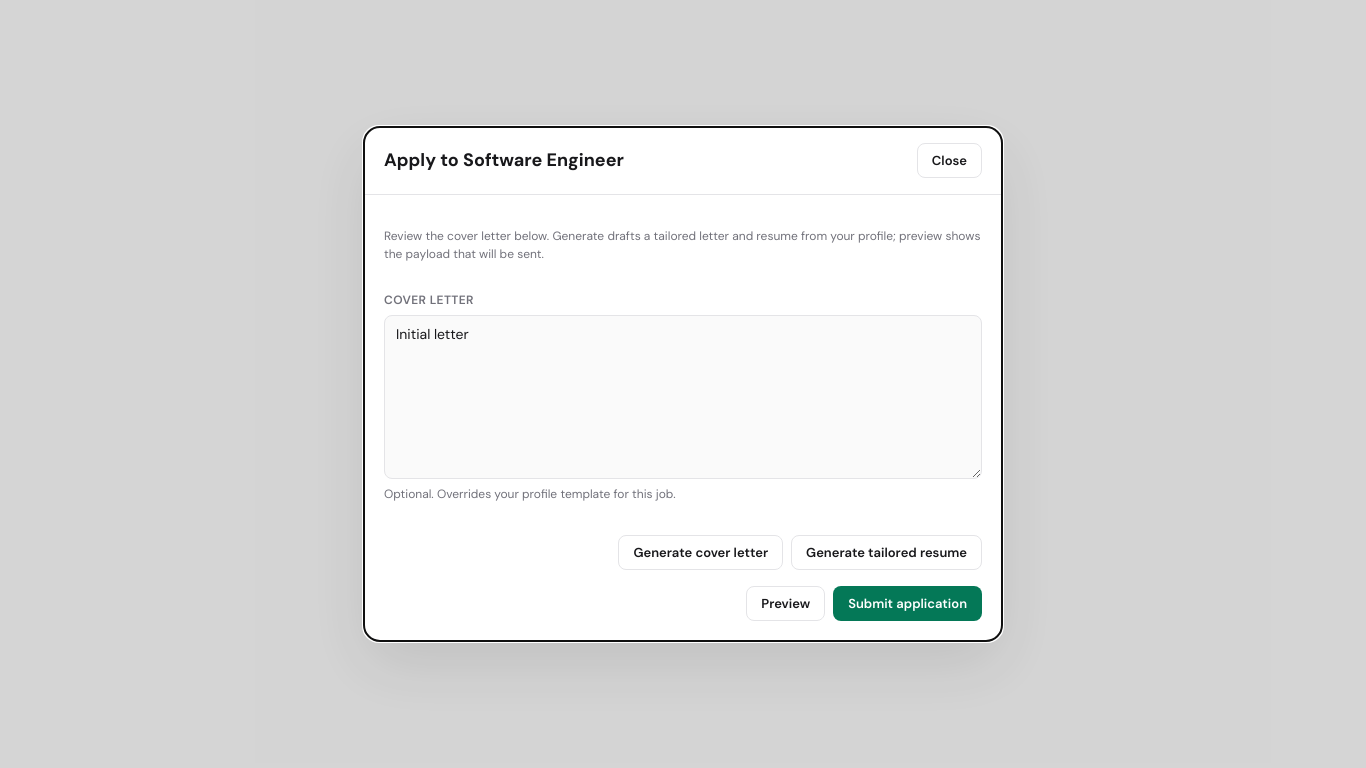
Test: ApplyJobDialog › announces apply errors via an assertive live region
Click the button "Submit application": point(908, 604) [833,586,982,621]
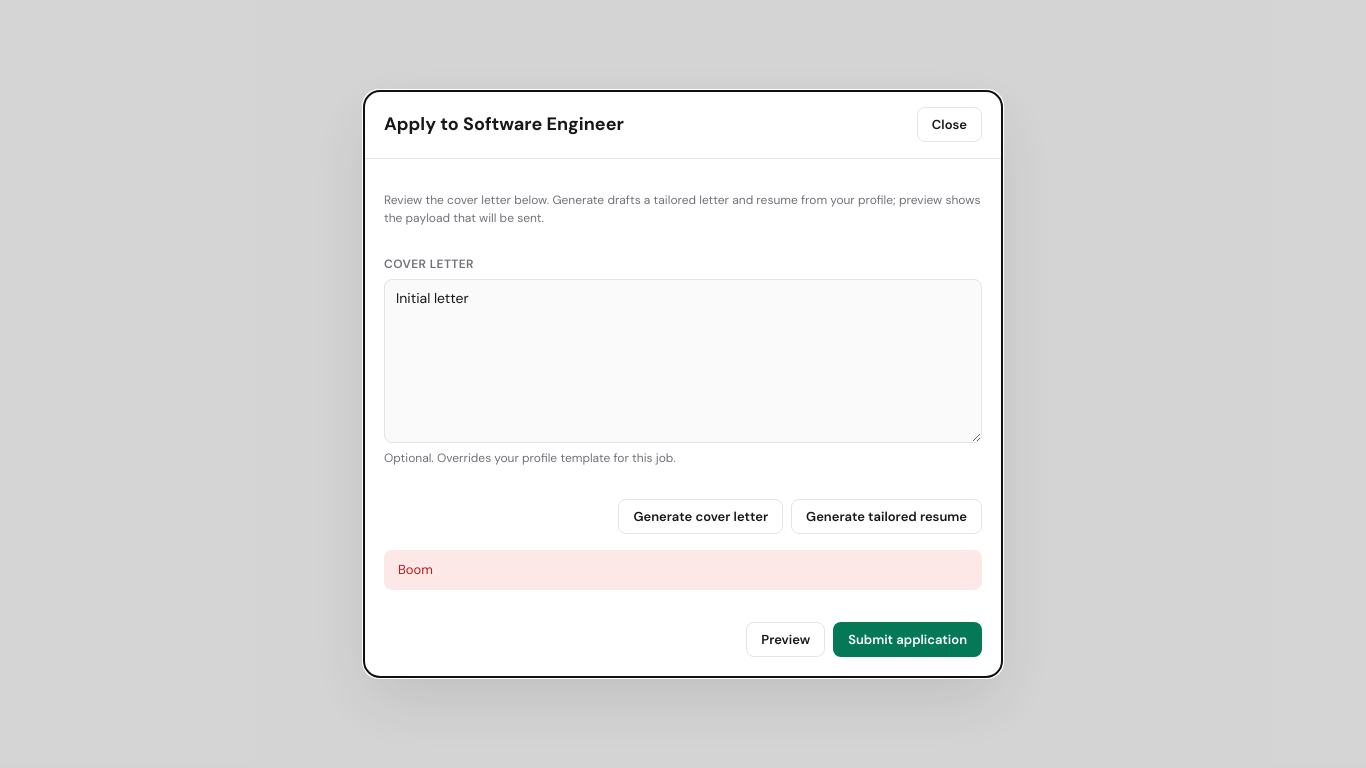
Expected: the message reads "Boom", [398,561,433,578]
